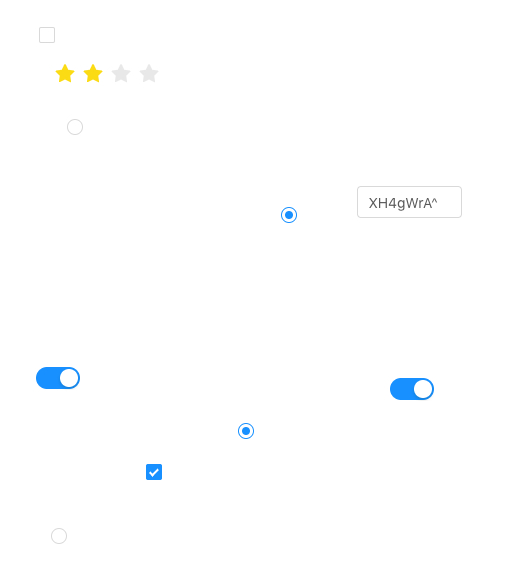Checkbox: (39, 24, 55, 45), (146, 461, 162, 482)
Input: (357, 186, 462, 218)
Radio: (67, 116, 83, 136), (281, 204, 297, 224), (238, 420, 254, 440), (51, 525, 67, 545)
Rate: (55, 57, 175, 89)
Switch: (36, 366, 80, 390), (390, 377, 434, 401)
